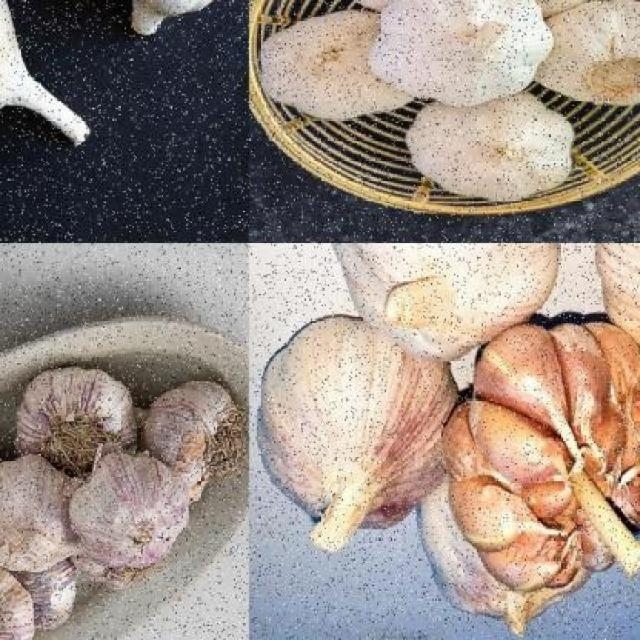garlic: (440, 322, 640, 590), (251, 316, 467, 549), (326, 244, 568, 364), (370, 0, 552, 108), (403, 92, 574, 205), (255, 8, 418, 121), (14, 358, 137, 473), (508, 0, 640, 105), (0, 0, 88, 148), (72, 454, 180, 570), (142, 380, 242, 488), (0, 457, 83, 574), (606, 344, 640, 530), (94, 0, 234, 38)
